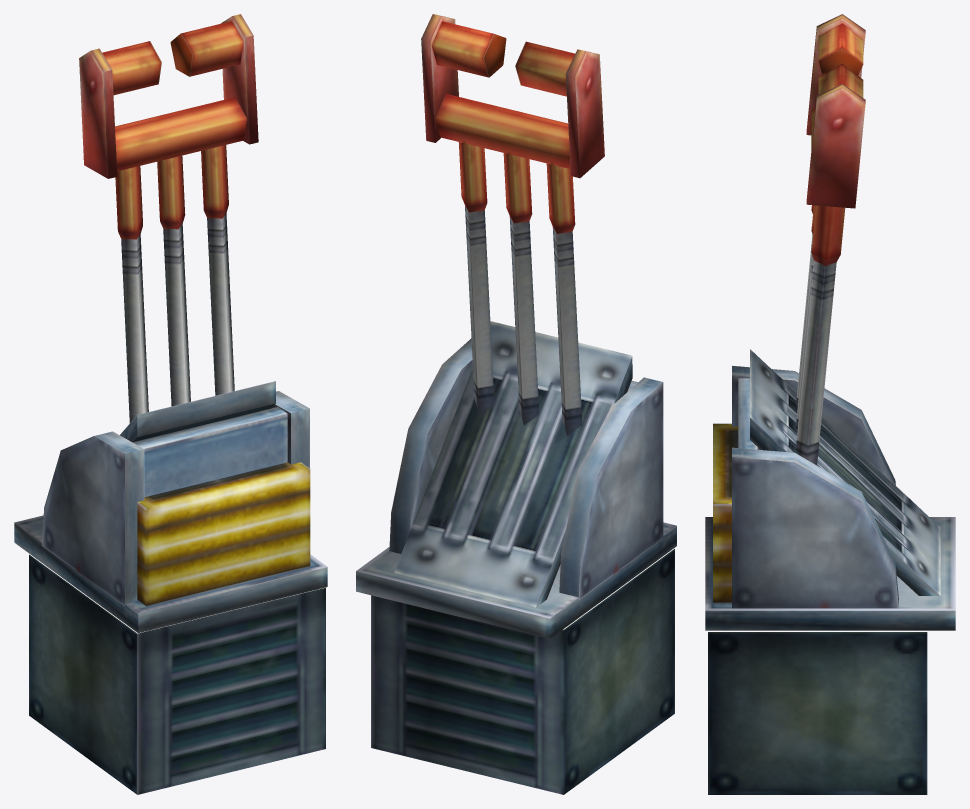
File: a_SWAswitch01.glb
3 views of the same model, side by side, from view 1: azimuth 30°, elevation 25°; view 2: azimuth 150°, elevation 25°; view 3: azimuth 270°, elevation 25° (orthographic). The views are drawn at different scales.
Visible parts, largest first — view 1: a_SWAswitch01; view 2: a_SWAswitch01; view 3: a_SWAswitch01.
Boxes of the visible parts, x1,y1,x2,y2 form: a_SWAswitch01: (14, 14, 327, 794); a_SWAswitch01: (356, 14, 676, 794); a_SWAswitch01: (705, 14, 955, 794).
Bounding box in the file's own units: 0.3462 × 1.21 × 0.392.
Materials: 1 (1 with a texture image).
